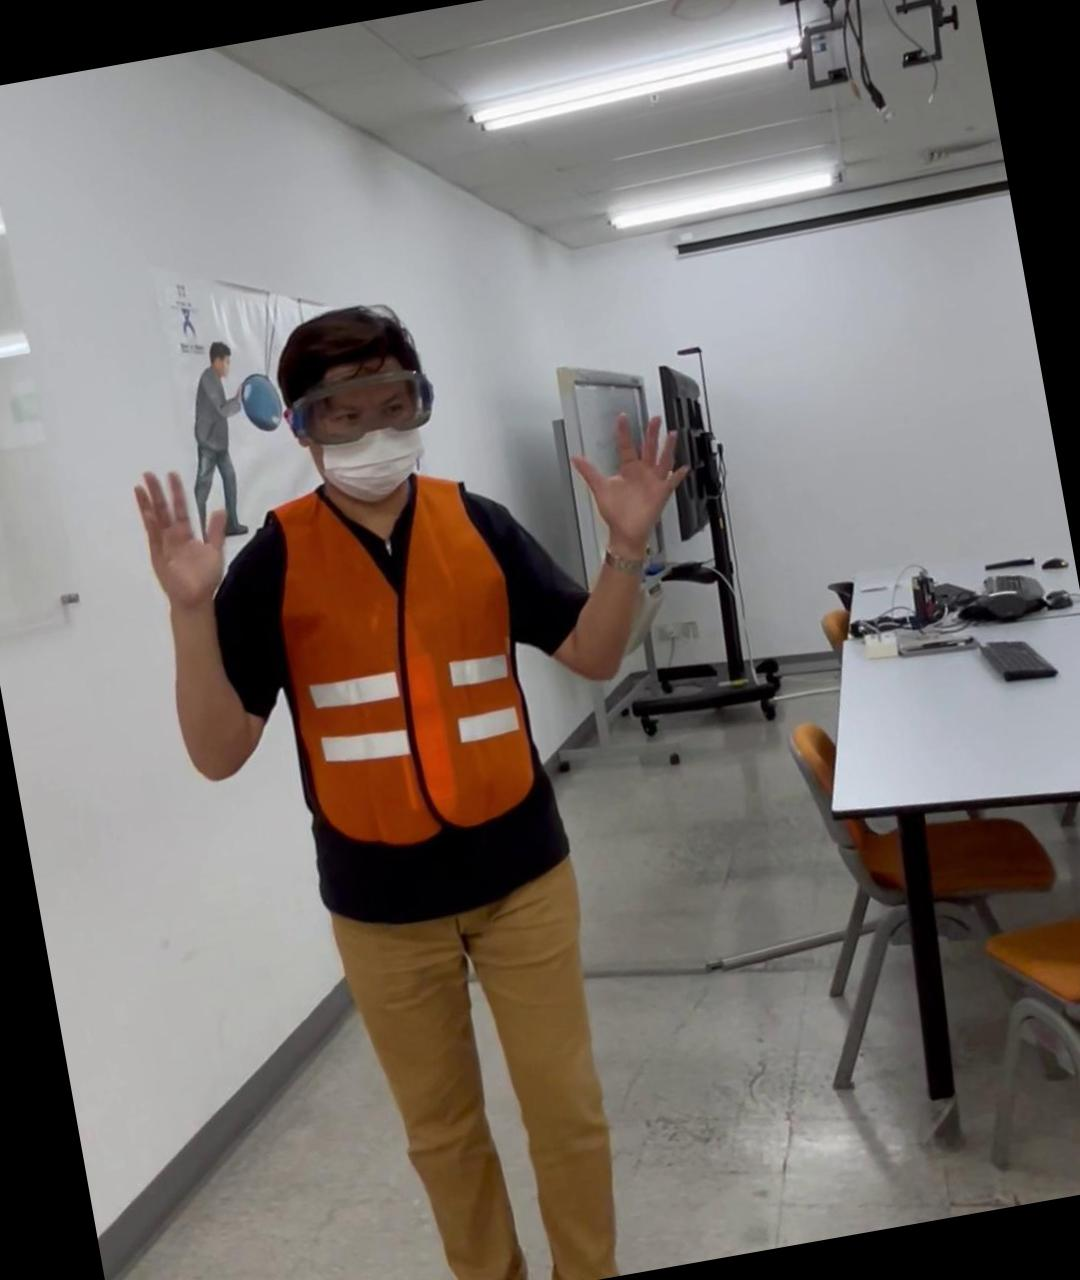No-gloves: (557, 395, 705, 559), (123, 449, 243, 609)
